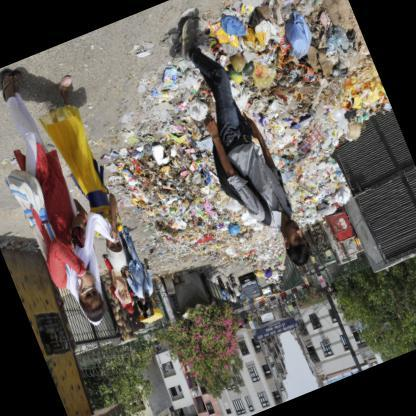Garbage: (248, 0, 382, 118), (119, 110, 216, 197), (150, 160, 235, 250), (279, 134, 350, 214), (281, 125, 347, 209), (198, 214, 262, 268), (254, 232, 288, 278)
